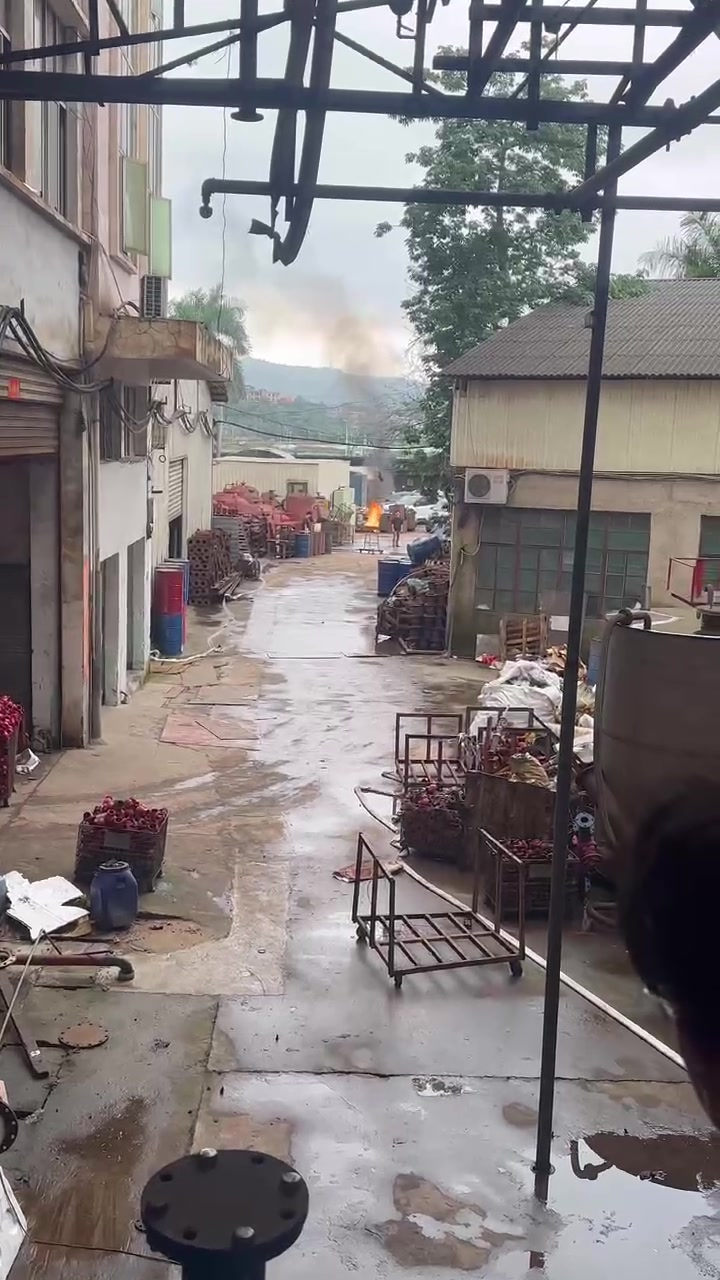fire: (363, 500, 382, 526)
